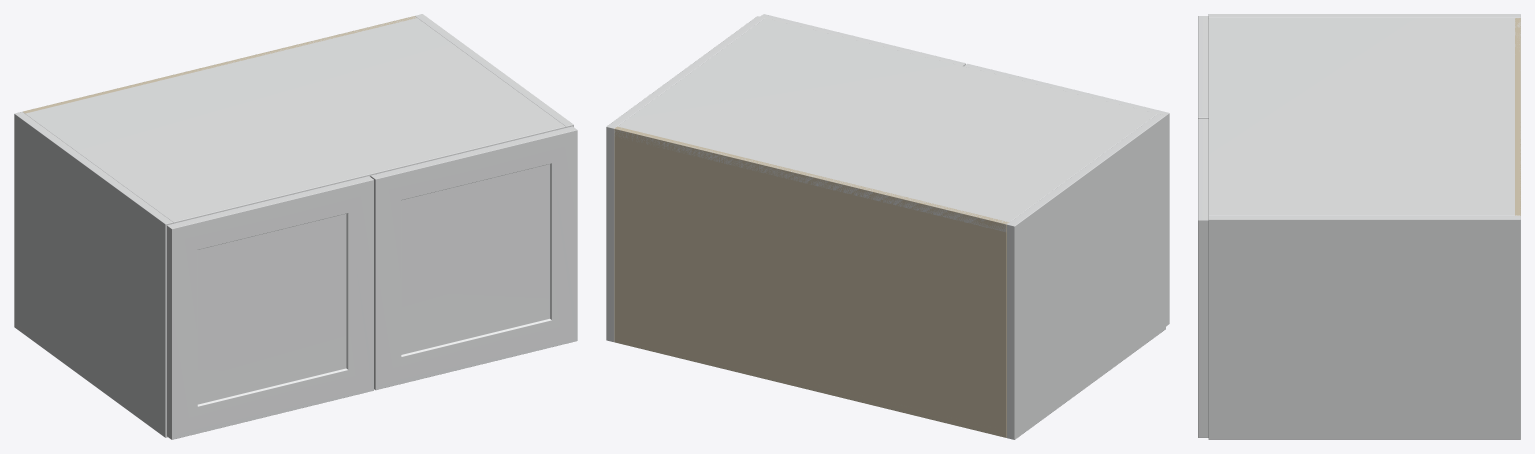
Rendered from PLY-WSS-W361824.glb.
3 renders of one model, left to right at view 1: azimuth 30°, elevation 25°; view 2: azimuth 150°, elevation 25°; view 3: azimuth 270°, elevation 25°, orthographic. The views are drawn at different scales.
Parts seen in each view (by area): view 1: Carcass top, Shaker door, Shaker door.001, Carcass left, Carcass right, Carcass back; view 2: Carcass back, Carcass top, Carcass left, Carcass right, Shaker door, Shaker door.001, Carcass bottom; view 3: Carcass right, Carcass top, Shaker door.001, Carcass left, Carcass back, Shaker door.
Part boxes in pixels (left/top/right/bottom): Carcass top: left=22, top=16, right=565, bottom=223; Shaker door: left=166, top=176, right=373, bottom=439; Shaker door.001: left=370, top=126, right=577, bottom=390; Carcass left: left=14, top=112, right=173, bottom=437; Carcass right: left=415, top=14, right=573, bottom=127; Carcass back: left=23, top=16, right=416, bottom=113; Carcass back: left=614, top=126, right=1009, bottom=437; Carcass top: left=614, top=18, right=1157, bottom=232; Carcass left: left=1007, top=114, right=1165, bottom=439; Carcass right: left=606, top=16, right=764, bottom=341; Shaker door: left=964, top=63, right=1169, bottom=326; Shaker door.001: left=760, top=14, right=965, bottom=66; Carcass bottom: left=615, top=340, right=1006, bottom=436; Carcass right: left=1208, top=215, right=1520, bottom=439; Carcass top: left=1208, top=18, right=1520, bottom=215; Shaker door.001: left=1198, top=118, right=1208, bottom=437; Carcass left: left=1208, top=14, right=1520, bottom=17; Carcass back: left=1515, top=18, right=1520, bottom=215; Shaker door: left=1198, top=16, right=1208, bottom=118.
Size of the model in its own units: 0.9144 by 0.4572 by 0.6064.
